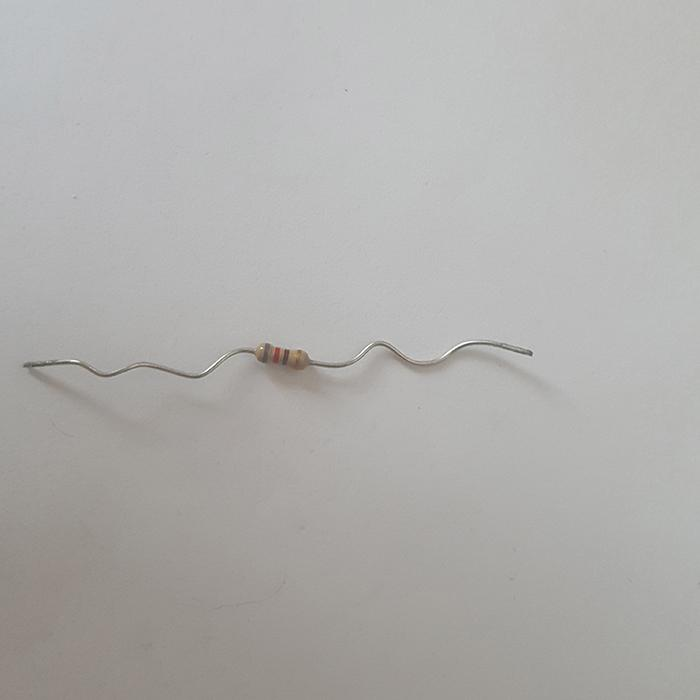resistor: (254, 341, 311, 370)
